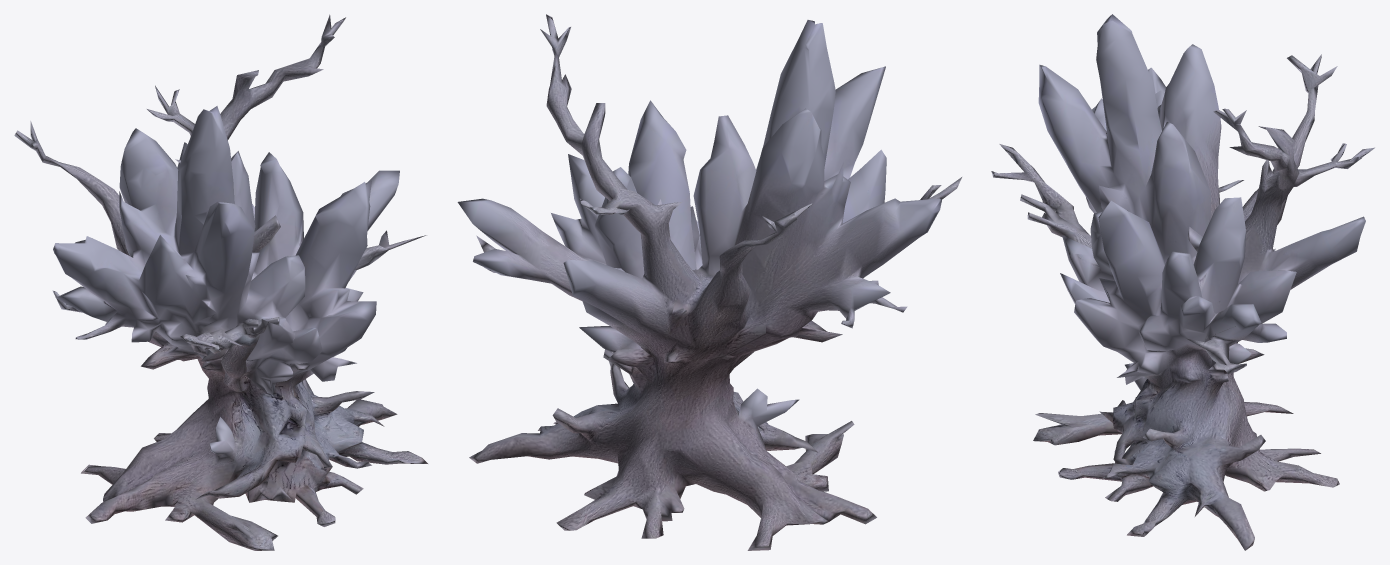
Rendered from midground_water_purifier.glb.
3 renders of one model, left to right at view 1: azimuth 30°, elevation 25°; view 2: azimuth 150°, elevation 25°; view 3: azimuth 270°, elevation 25°, orthographic. The views are drawn at different scales.
Visible parts, largest first — view 1: tripo_node_f1ff1fea-ccc5-46ce-96b0-2205ebfc8d6c; view 2: tripo_node_f1ff1fea-ccc5-46ce-96b0-2205ebfc8d6c; view 3: tripo_node_f1ff1fea-ccc5-46ce-96b0-2205ebfc8d6c.
Boxes of the visible parts, <box> form: tripo_node_f1ff1fea-ccc5-46ce-96b0-2205ebfc8d6c: <box>14,14,427,550</box>; tripo_node_f1ff1fea-ccc5-46ce-96b0-2205ebfc8d6c: <box>457,14,961,550</box>; tripo_node_f1ff1fea-ccc5-46ce-96b0-2205ebfc8d6c: <box>991,14,1374,550</box>.
Bounding box in the file's own units: 0.9976 × 1 × 0.8391.
Materials: 1 (1 with a texture image).
